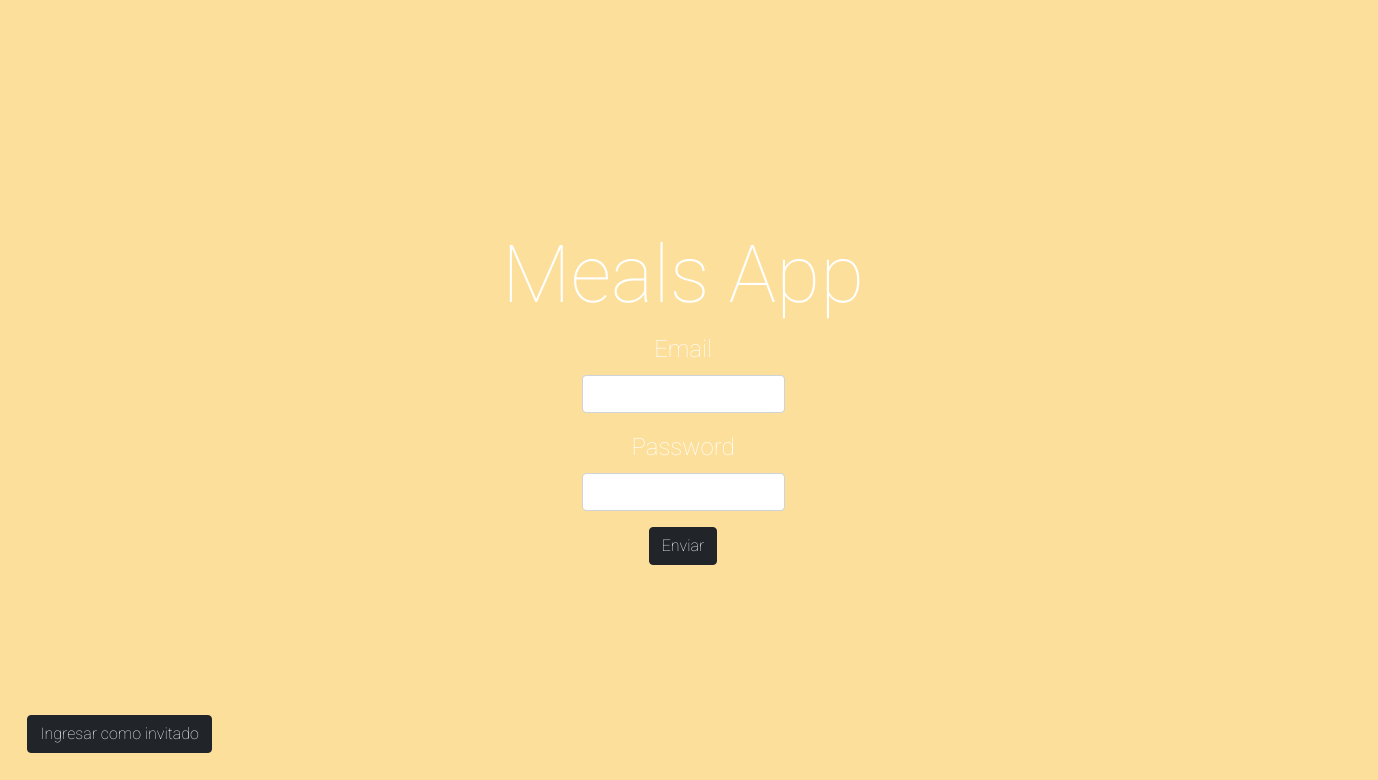
Test: Validacion de campos en submit de formulario de login o busqueda › Manejo de excepciones al obtener errores de la API › Muestra error si el email o contraseña enviado a la API es invalido
Type "fakeEmail@gmail.com" into the field labelled "Email" at x=683, y=394, box [582, 375, 784, 413]
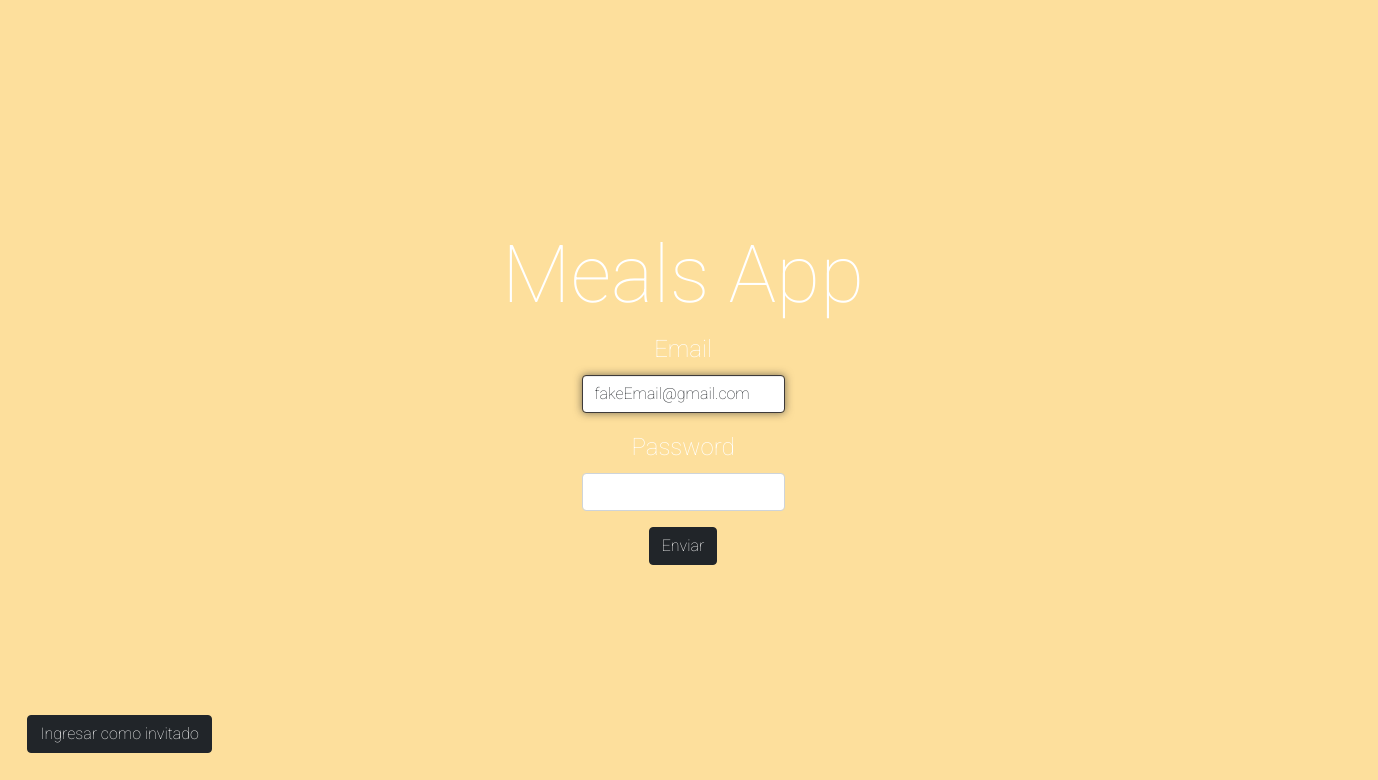
Type "fakePassword" into the password field labelled "Password" at x=683, y=492, box [582, 473, 784, 511]
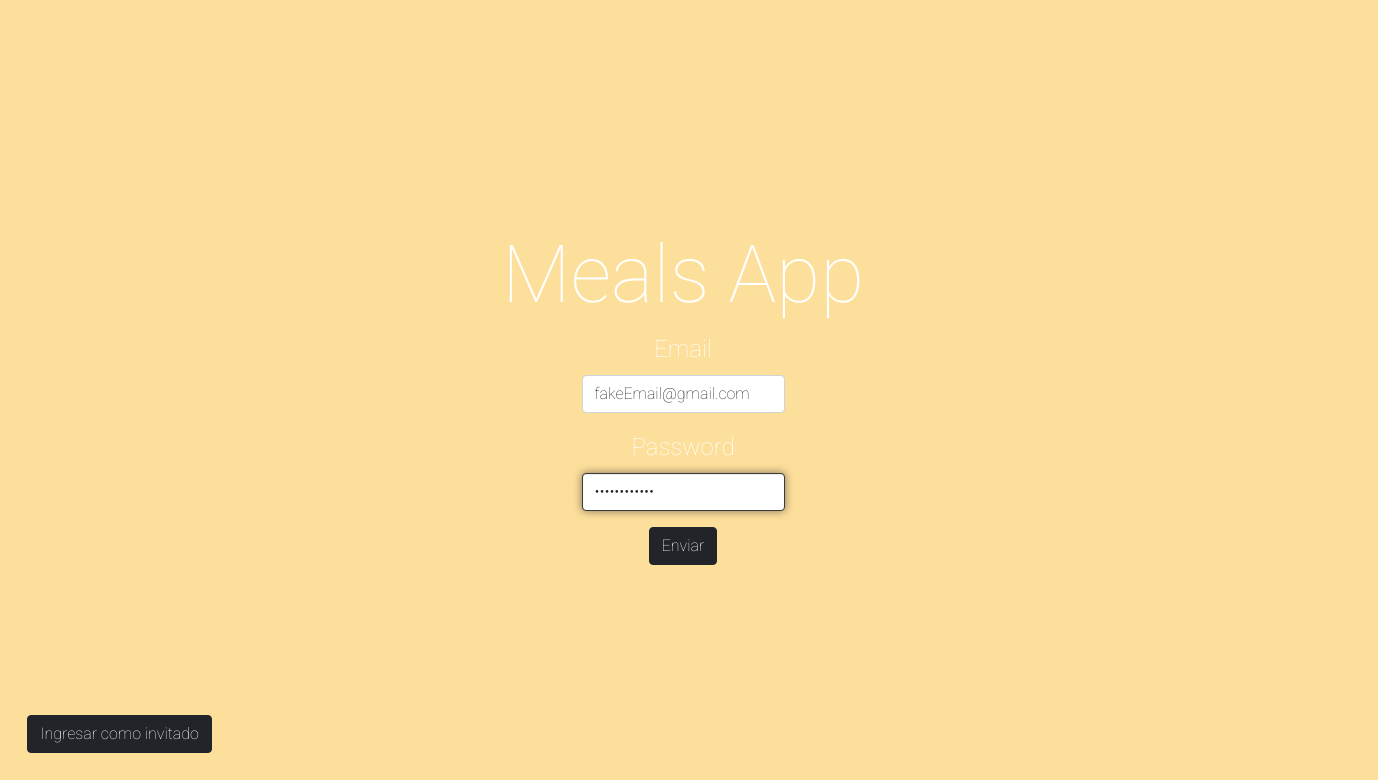
Click the button "Enviar" at x=683, y=546, box [649, 527, 717, 565]
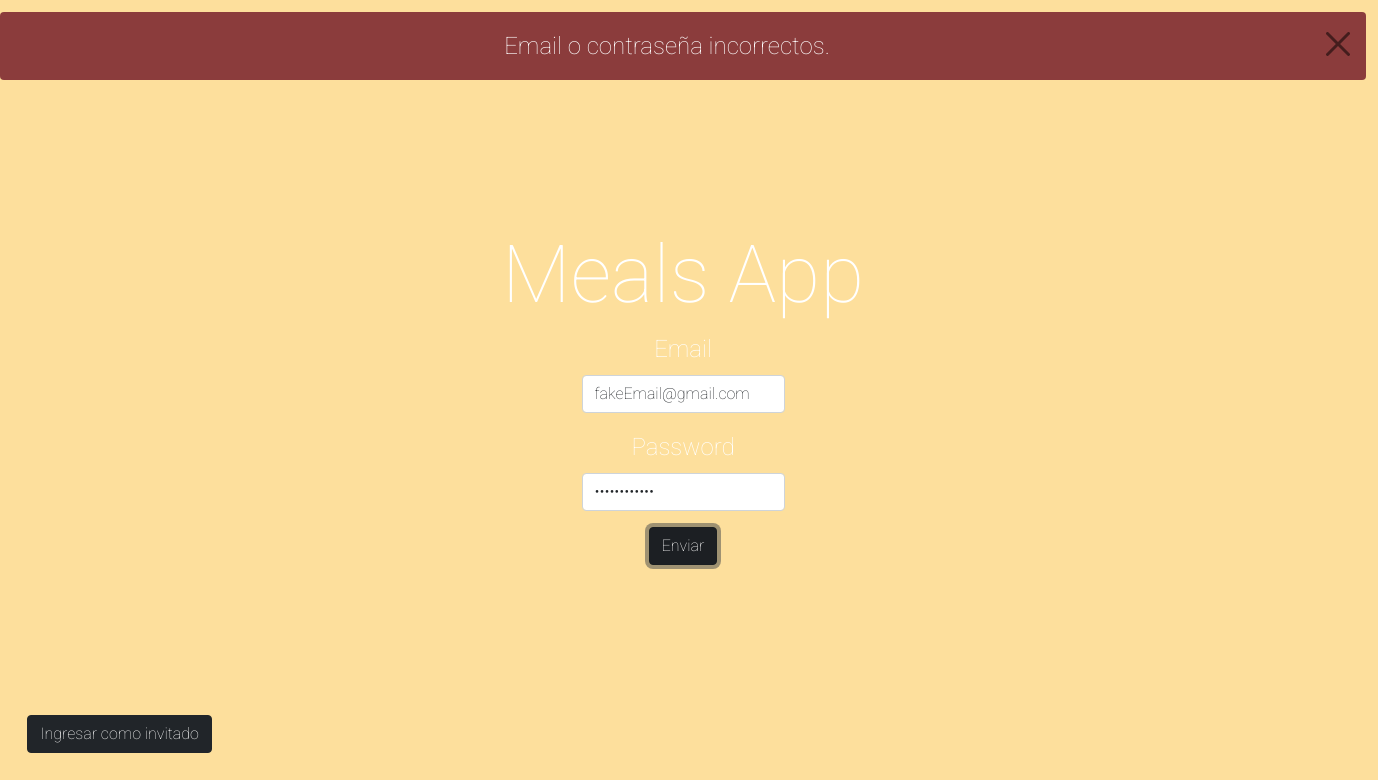
Result: the text "Email o contraseña incorrectos." is shown at [0, 12, 1366, 80]
